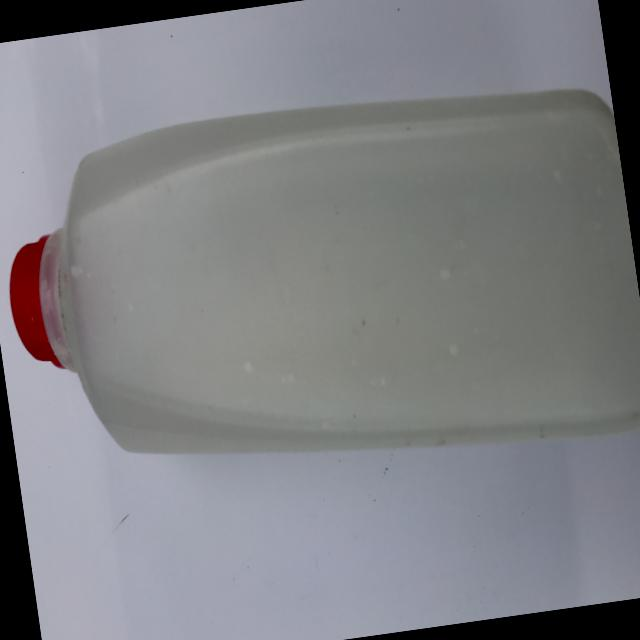Plastic: (0, 2, 640, 563)
